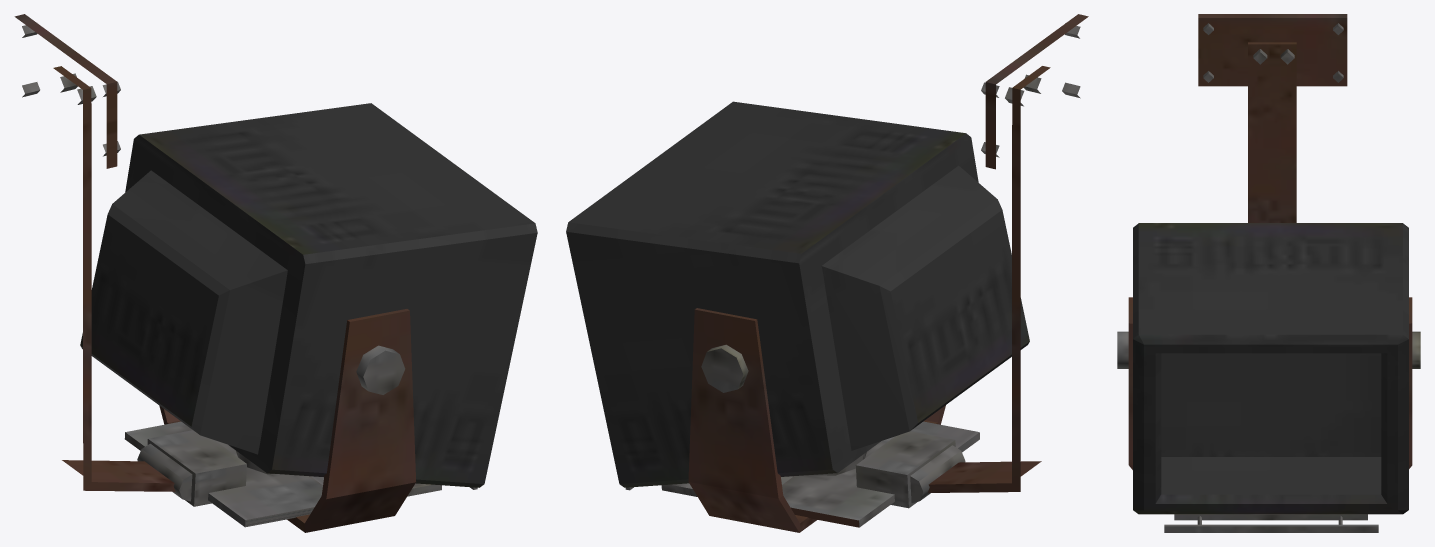
Rendered from controlroom_monitor001b.glb.
3 renders of one model, left to right at view 1: azimuth 30°, elevation 25°; view 2: azimuth 150°, elevation 25°; view 3: azimuth 270°, elevation 25°, orthographic. The views are drawn at different scales.
Visible parts, largest first — view 1: 0_controlroom_001; view 2: 0_controlroom_001; view 3: 0_controlroom_001.
Part boxes in pixels (left/top/right/bottom): 0_controlroom_001: left=14, top=14, right=537, bottom=532; 0_controlroom_001: left=566, top=14, right=1088, bottom=532; 0_controlroom_001: left=1117, top=14, right=1420, bottom=532.
Size of the model in its own units: 0.881 by 1.05 by 0.7282.
1 material, 1 textured.
